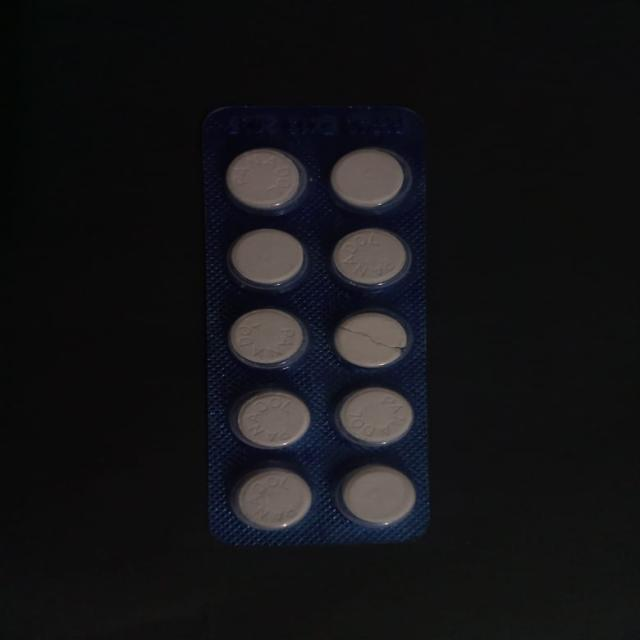defect: (329, 307, 416, 371)
